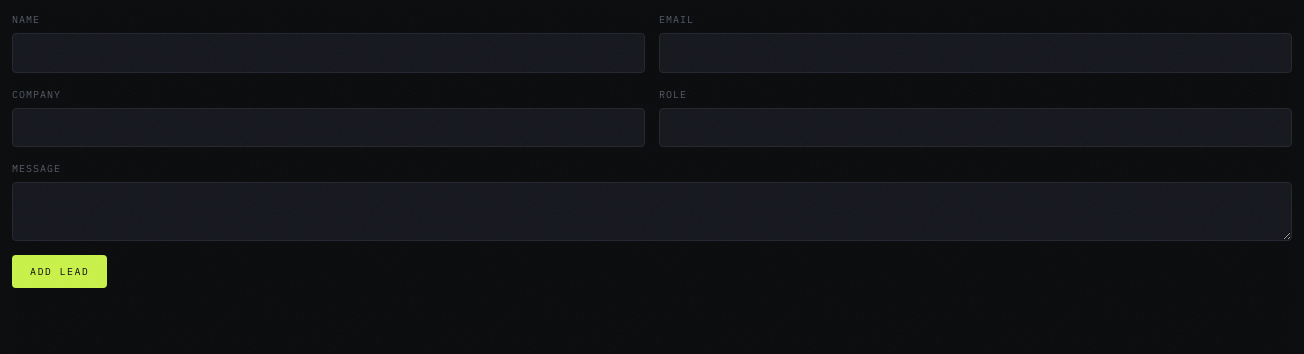
Test: AddLeadForm › shows a validation error when the API rejects the payload with 422
The width and height of the screenshot is (1304, 354).
In the field labelled "Name": (328, 53) [12, 33, 645, 72], type "Ada Lovelace"
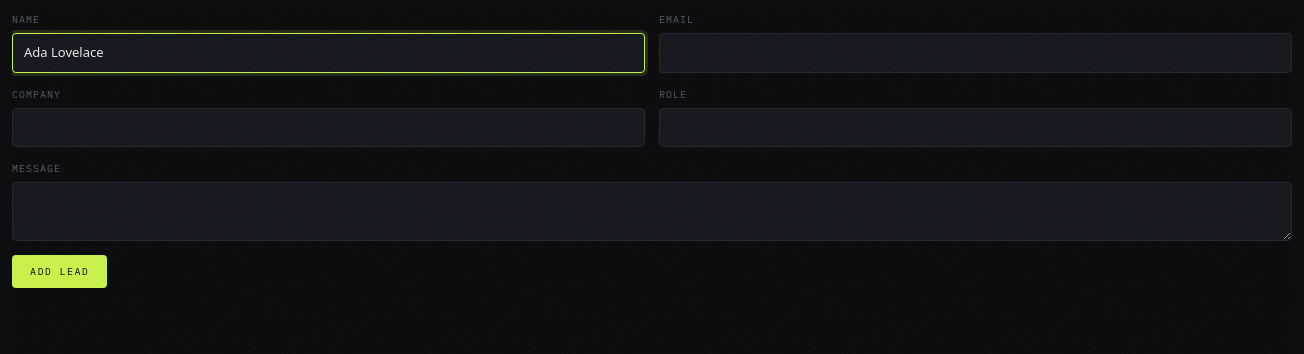
In the field labelled "Email": (976, 53) [659, 33, 1292, 72], type "ada@localhost"
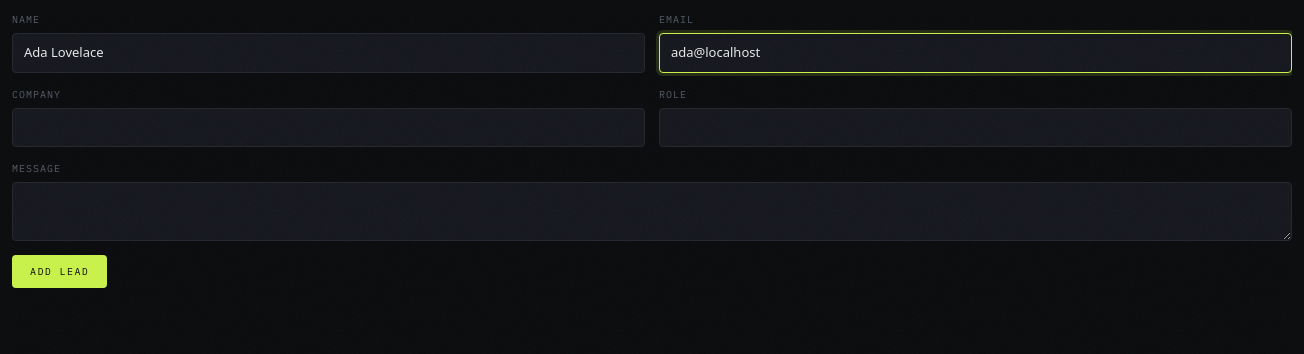
In the field labelled "Company": (328, 127) [12, 108, 645, 147], type "Analytical Engines"
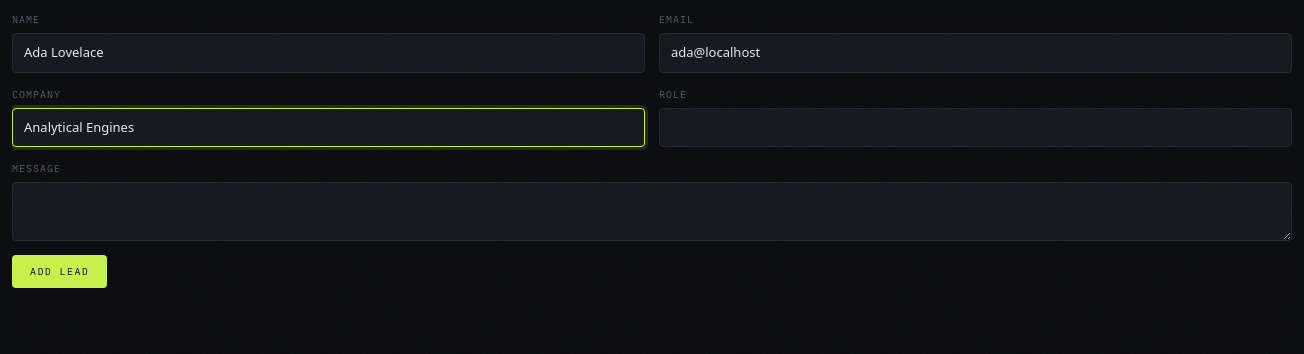
Click the button "Add lead": (60, 272) [12, 255, 107, 288]
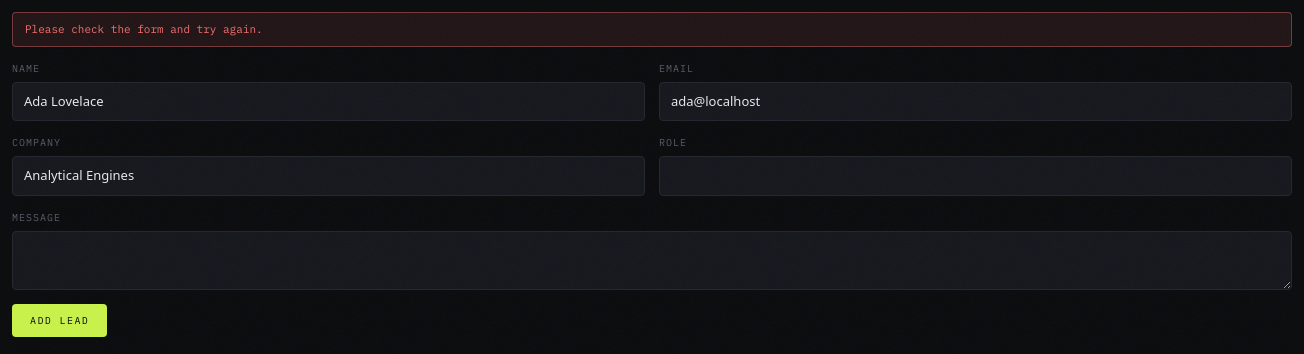
Now the message shows "check the form", box [25, 22, 263, 36]
